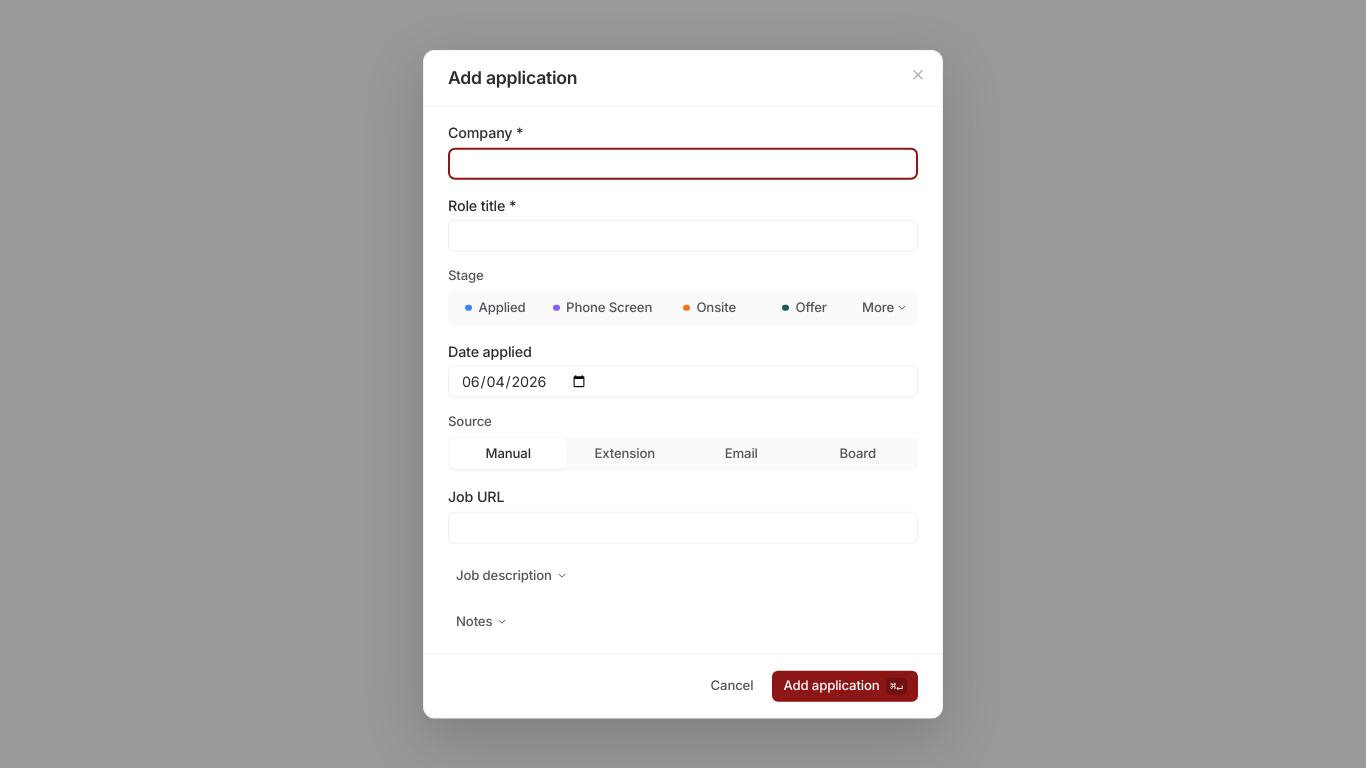
Test: ManualAddForm › should show validation error when role_title is empty on submit
Type "Acme Corp" into the field labelled "Company *" at (683, 163), box [448,147,918,179]
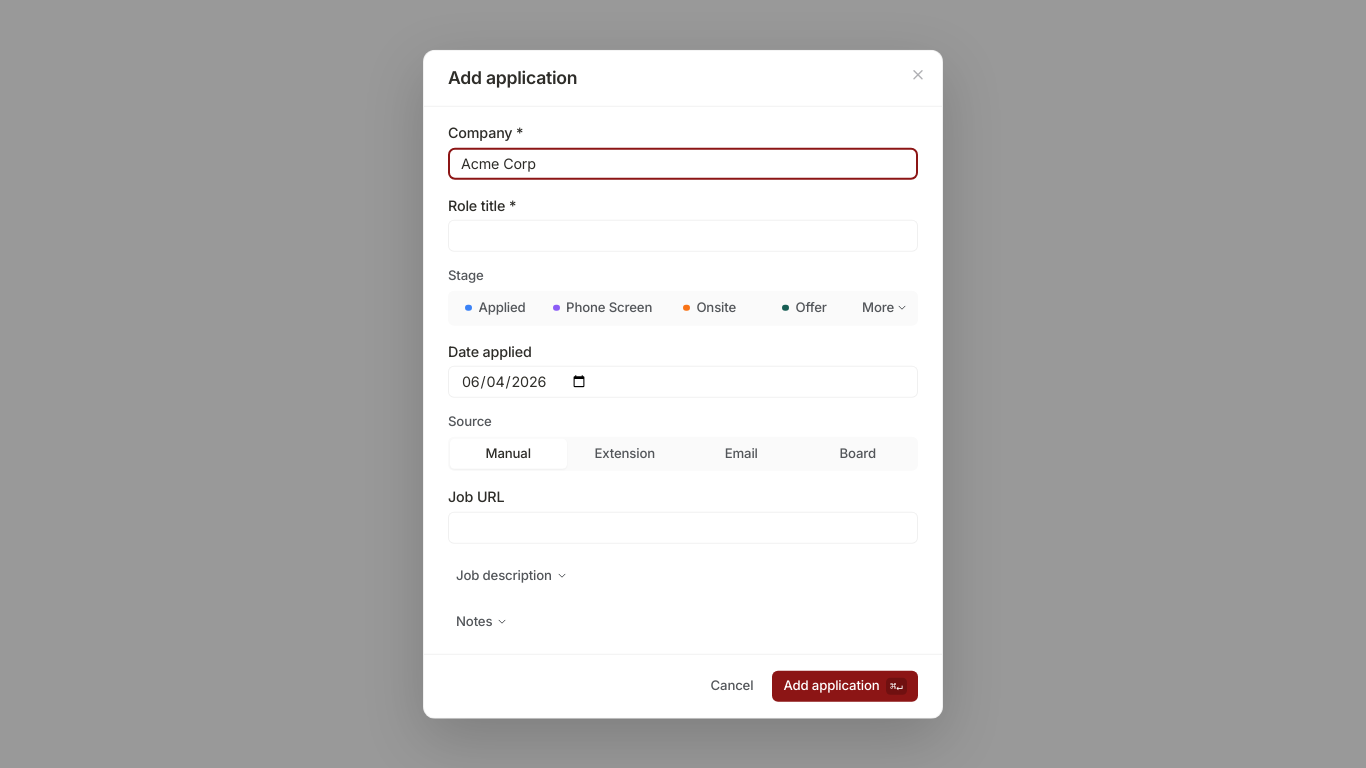
Click the button "Add application ⌘↵" at (845, 686), box [772,670,918,701]
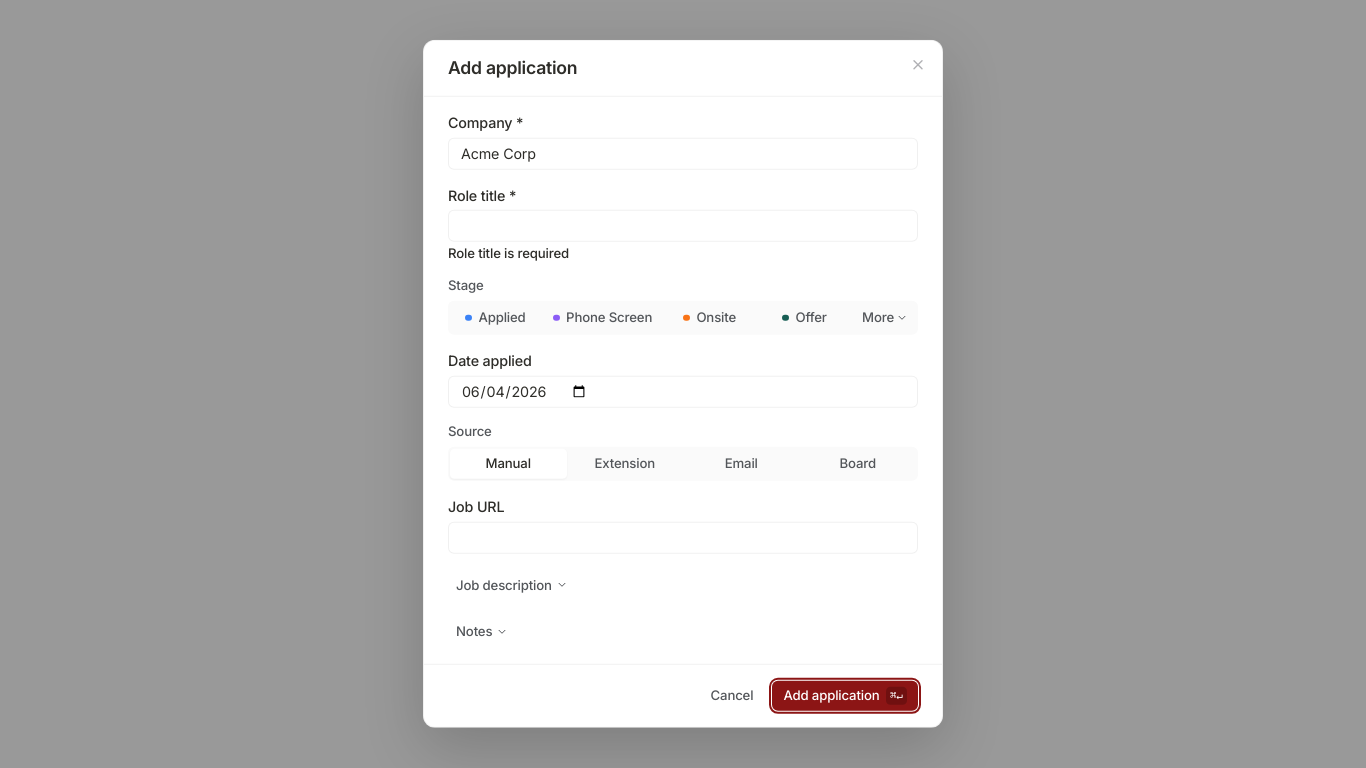
Now the text "Role title is required" is shown, box [448,245,569,261]
